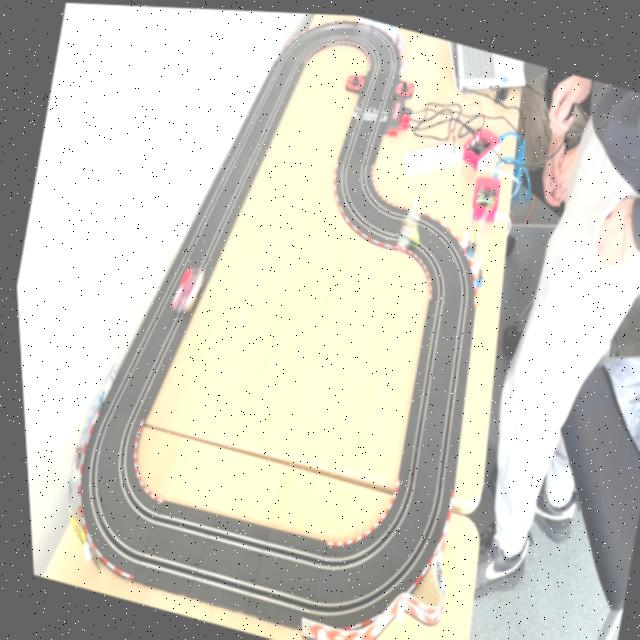mario: (162, 254, 209, 321)
yoshi: (390, 192, 428, 257)
